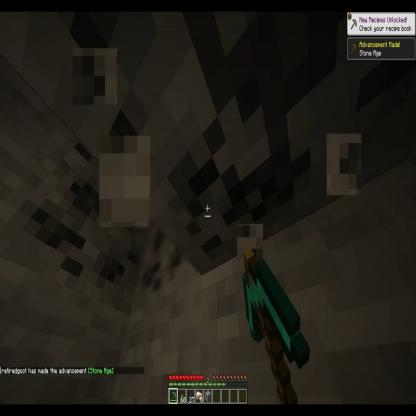coal ore: (19, 143, 150, 314), (132, 196, 199, 314)
